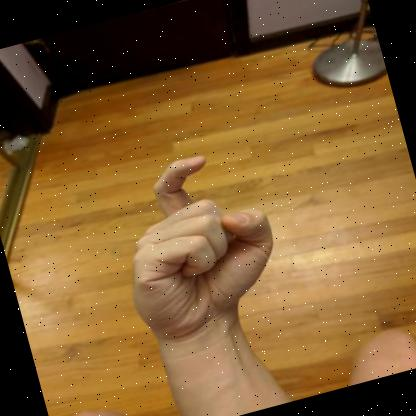X: (132, 155, 272, 345)
